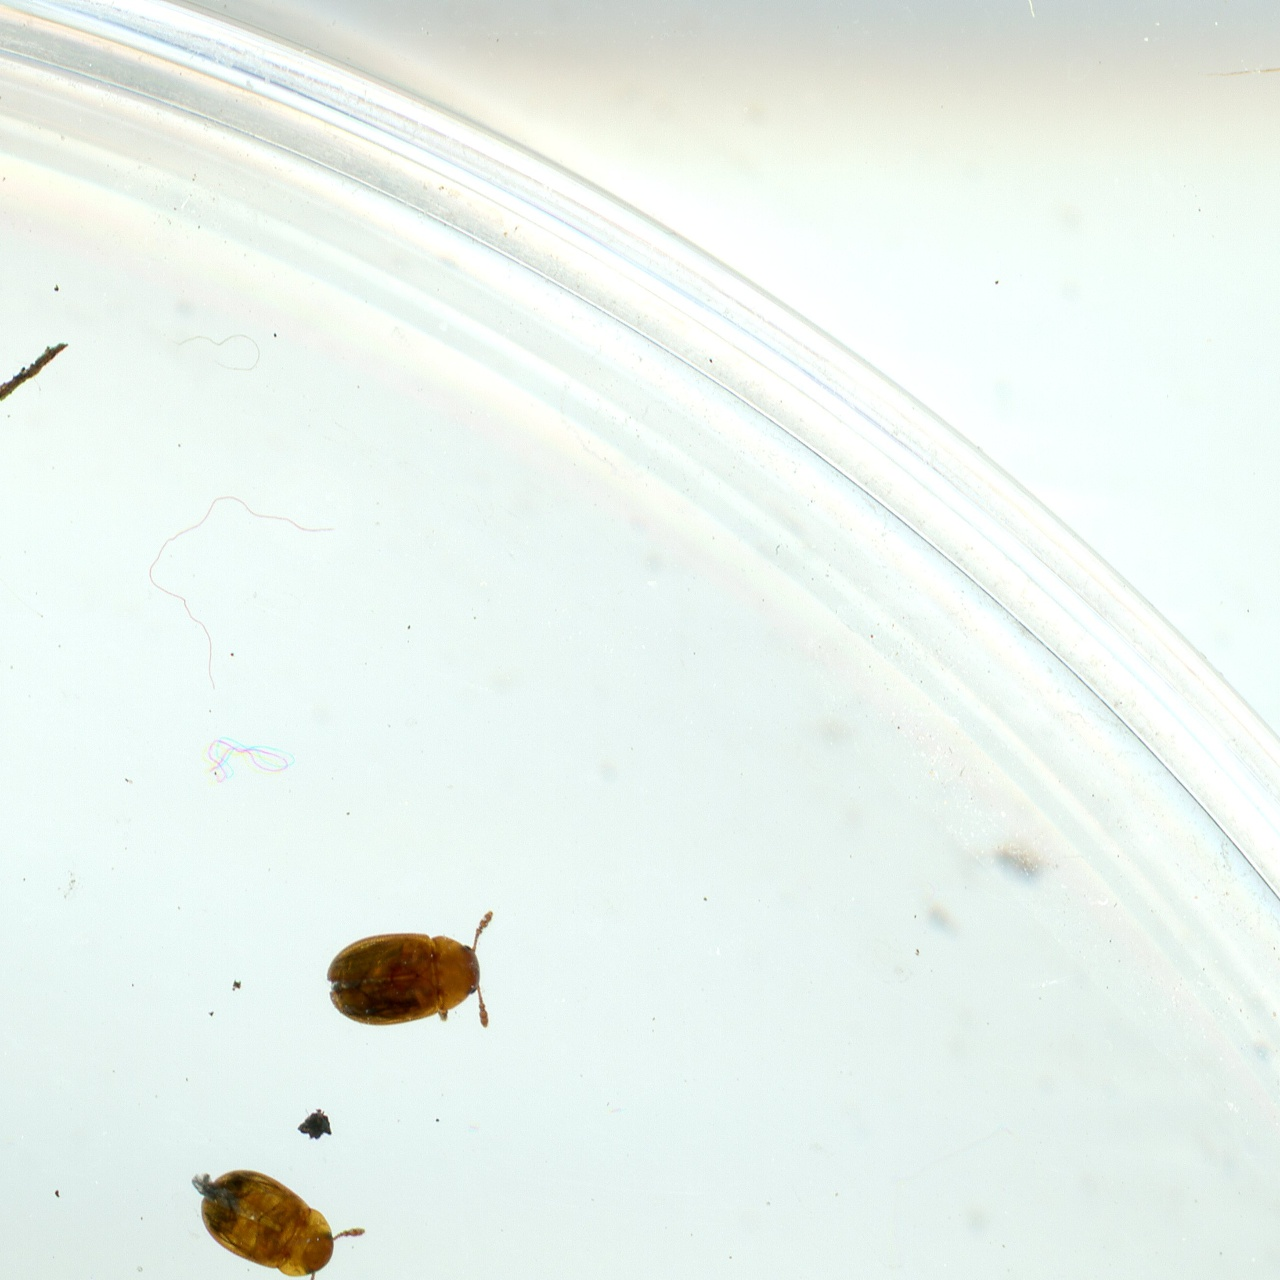arthropod: (190, 1152, 367, 1280), (327, 912, 505, 1032)
